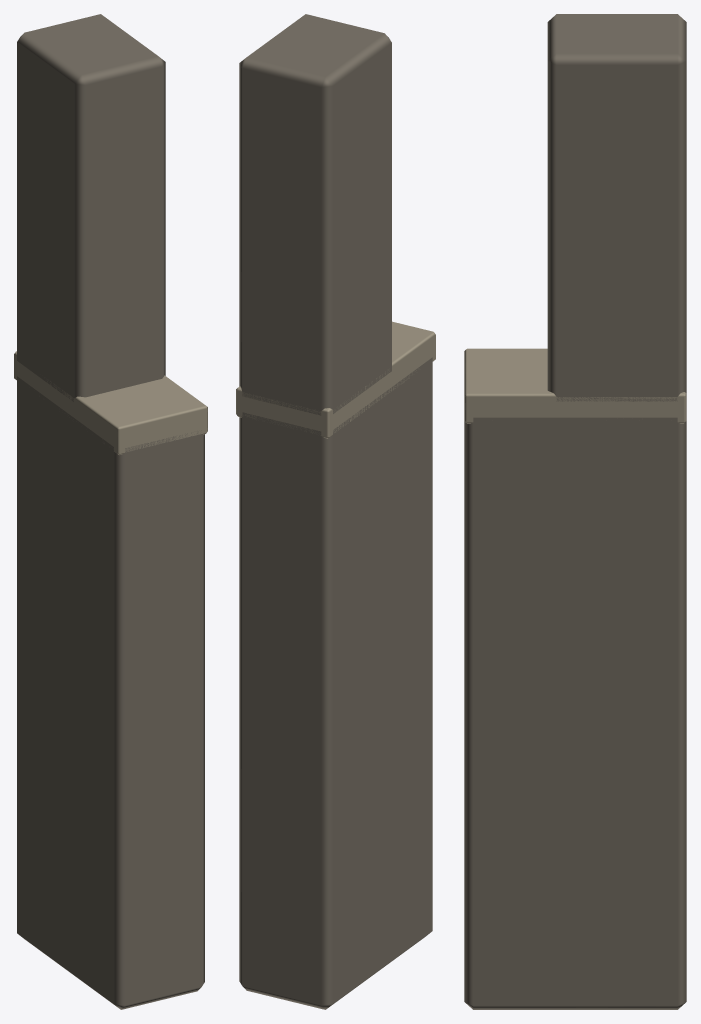
File: stone-halls-buttress.c5f6a548.glb
3 views of the same model, side by side, from view 1: azimuth 30°, elevation 25°; view 2: azimuth 150°, elevation 25°; view 3: azimuth 270°, elevation 25° (orthographic). The views are drawn at different scales.
Parts seen in each view (by area): view 1: body; view 2: body; view 3: body.
Boxes of the visible parts, x1=… form: body: x1=14, y1=14, x2=207, y2=1009; body: x1=236, y1=14, x2=435, y2=1009; body: x1=464, y1=14, x2=686, y2=1009.
Bounding box in the file's own units: 0.2 × 1.9 × 0.4.
